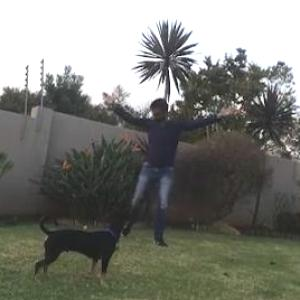takeoff: (100, 88, 240, 236)
